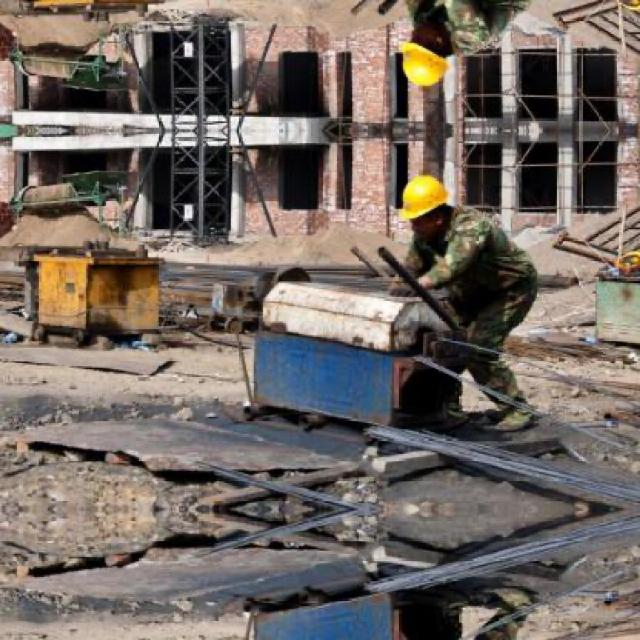helmet: (394, 168, 457, 243), (394, 17, 457, 92)
